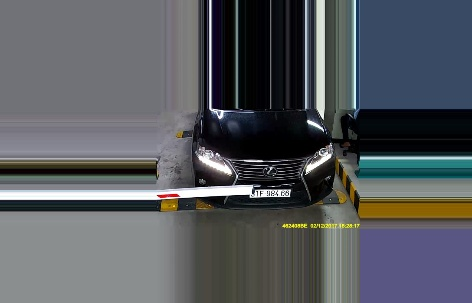plate: (244, 184, 292, 197)
